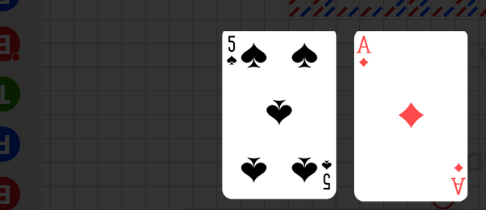5S: (226, 34, 238, 67)
AD: (449, 160, 465, 196)
